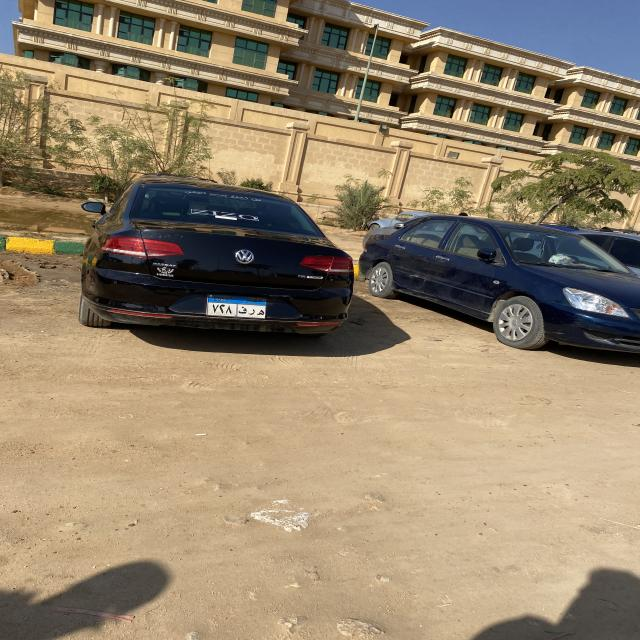License Plate: (207, 294, 266, 318)
